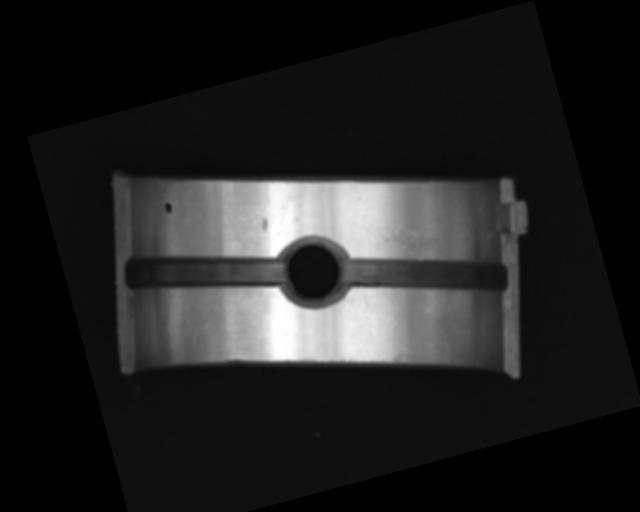blot: (162, 200, 174, 216)
bruise: (258, 216, 269, 232)
gap: (338, 220, 511, 327), (121, 221, 287, 322)
hole: (270, 227, 357, 313)
scratch: (372, 210, 453, 262)
